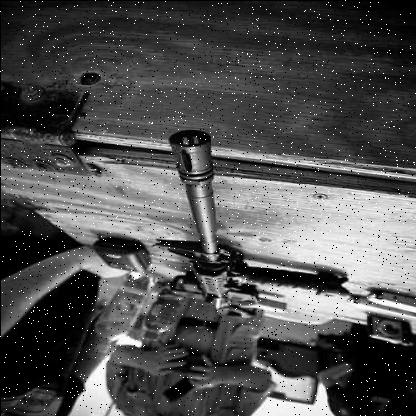rifle: (80, 100, 356, 343)
